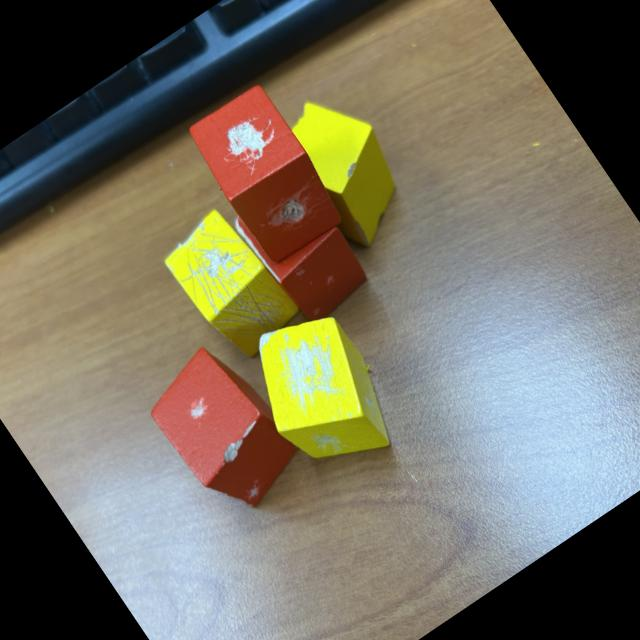broken: (226, 292, 414, 494), (135, 333, 314, 528), (182, 79, 352, 268), (267, 76, 428, 258), (154, 198, 308, 368), (230, 171, 376, 331)
